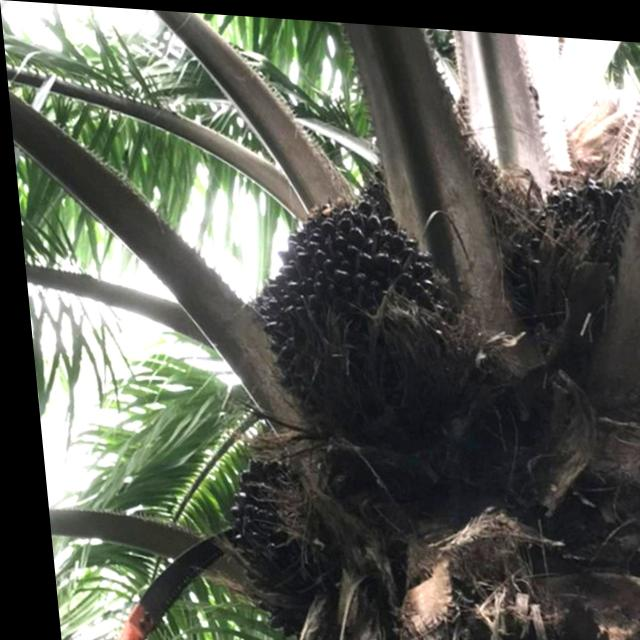ripe: (240, 184, 474, 430), (487, 151, 640, 330), (216, 445, 348, 634)
